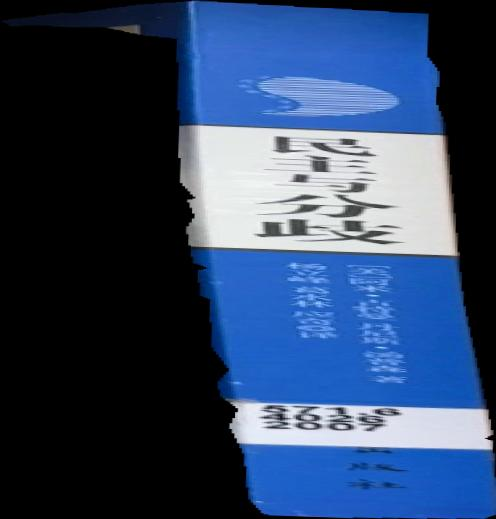book: (1, 1, 496, 519)
